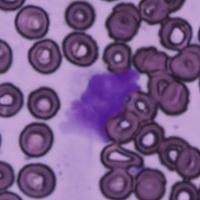D: (63, 68, 143, 139)
